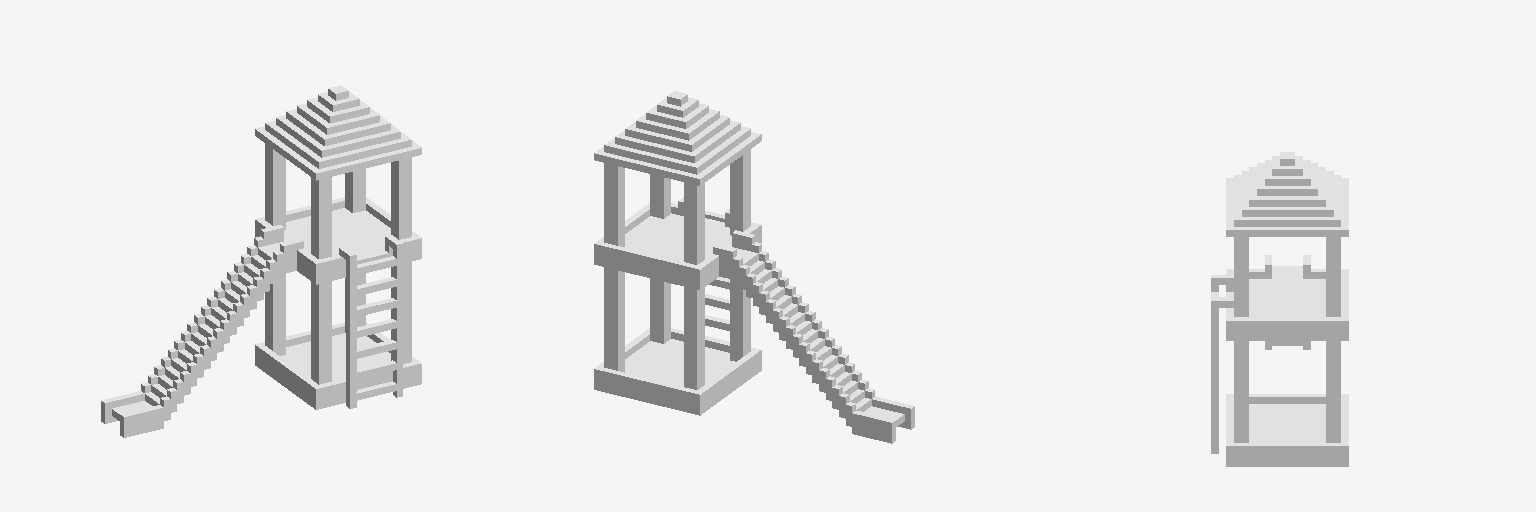
Rendered from skate.obj.
3 renders of one model, left to right at view 1: azimuth 30°, elevation 25°; view 2: azimuth 150°, elevation 25°; view 3: azimuth 270°, elevation 25°, orthographic.
Parts seen in each view (by area): view 1: object 1; view 2: object 1; view 3: object 1.
Part boxes in pixels (x1,y1,x2,y2): object 1: (101, 85, 421, 437); object 1: (594, 91, 914, 443); object 1: (1211, 152, 1348, 466).
Bounding box in the file's own units: 4.2 × 4.1 × 1.8.